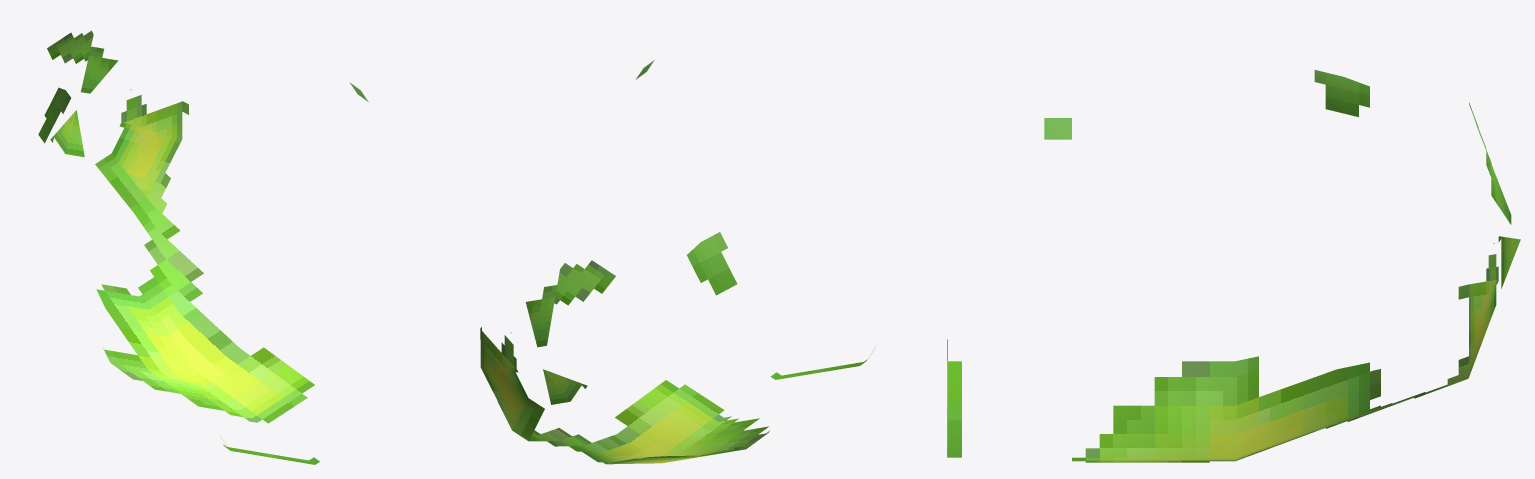
File: p_001_chongci1.glb
3 views of the same model, side by side, from view 1: azimuth 30°, elevation 25°; view 2: azimuth 150°, elevation 25°; view 3: azimuth 270°, elevation 25° (orthographic). The views are drawn at different scales.
Parts seen in each view (by area): view 1: model; view 2: model; view 3: model.
Boxes of the visible parts, x1,y1,x2,y2 form: model: (38, 30, 368, 464); model: (480, 60, 875, 464); model: (947, 70, 1520, 462).
Size of the model in its own units: 1.88 by 2.36 by 2.83.
Materials: 1 (1 with a texture image).
